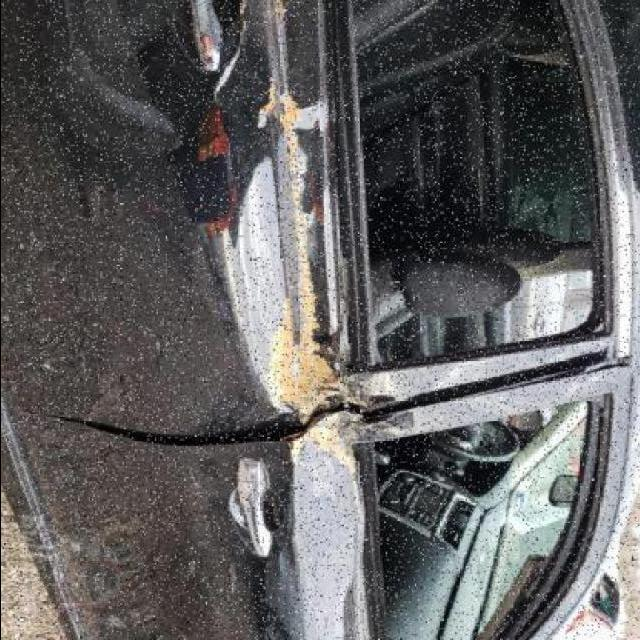doorouter-dent: (1, 0, 369, 418), (0, 413, 366, 640)
pillar-dent: (338, 328, 637, 444)
